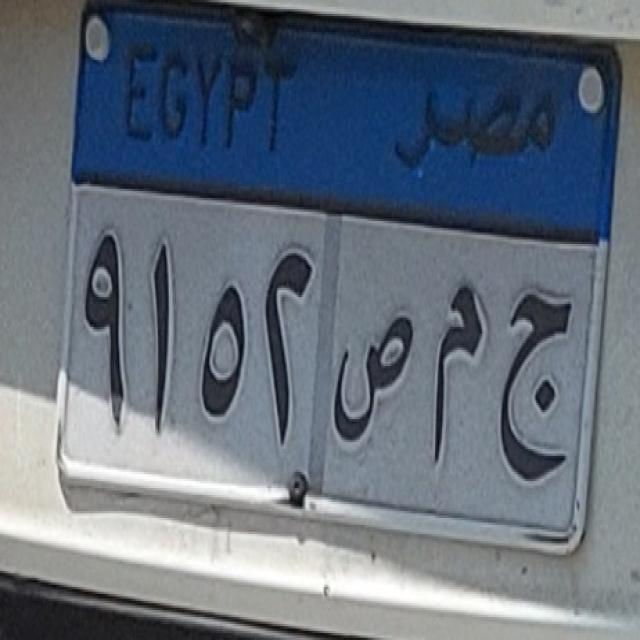1: (132, 222, 194, 472)
2: (252, 234, 323, 470)
5: (190, 268, 254, 438)
9: (70, 224, 148, 462)
Meem: (415, 270, 492, 493)
Saad: (322, 286, 423, 470)
geem: (486, 274, 588, 508)
